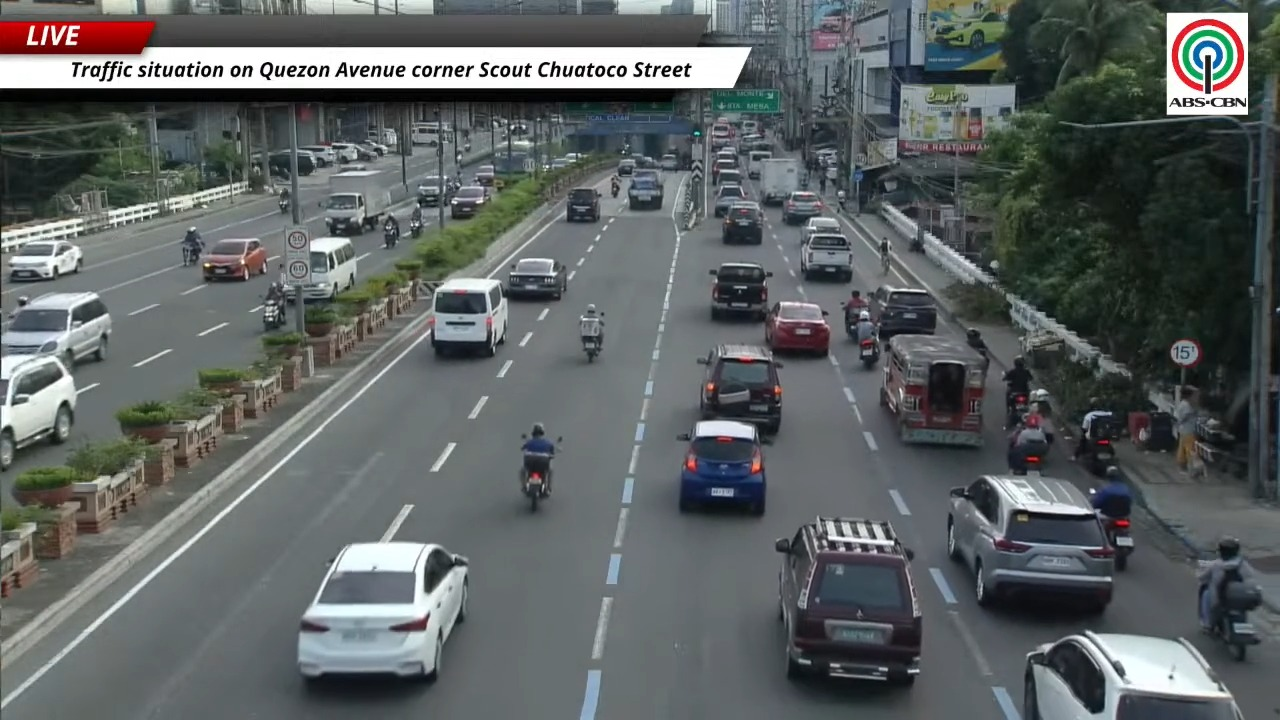bus: (411, 122, 450, 146)
car: (775, 516, 922, 684), (297, 541, 468, 680), (946, 475, 1114, 611), (1022, 630, 1242, 719), (0, 355, 75, 470), (0, 292, 112, 369), (677, 421, 766, 514), (698, 344, 781, 433), (869, 285, 937, 340), (765, 301, 830, 354), (9, 240, 82, 279), (201, 238, 268, 280), (934, 12, 1006, 49), (507, 258, 566, 299), (722, 201, 763, 244), (449, 185, 489, 219), (783, 191, 823, 223), (566, 187, 600, 221), (713, 185, 748, 218), (417, 175, 455, 205), (802, 216, 840, 245), (299, 145, 335, 167), (818, 7, 848, 32), (711, 158, 738, 184), (330, 142, 359, 163), (268, 151, 292, 176), (352, 142, 380, 161), (357, 140, 388, 156), (474, 165, 494, 187), (713, 169, 742, 184), (616, 158, 636, 176), (336, 163, 368, 174), (660, 154, 679, 171), (549, 157, 572, 170), (637, 156, 658, 168), (564, 152, 585, 162)
motorcycle: (1208, 581, 1261, 661), (1078, 419, 1117, 476), (1099, 513, 1134, 570), (520, 453, 552, 511), (1008, 445, 1047, 475), (580, 319, 601, 362), (262, 293, 285, 330), (1006, 391, 1028, 429), (1009, 452, 1043, 476), (859, 337, 878, 369), (581, 336, 601, 362), (182, 244, 200, 266), (384, 226, 398, 248), (410, 219, 422, 238), (278, 198, 289, 213), (611, 184, 619, 197), (464, 142, 471, 152)
truck: (320, 170, 391, 235), (709, 262, 772, 319), (801, 232, 853, 281), (759, 158, 802, 204), (628, 170, 663, 209), (747, 150, 772, 179)
